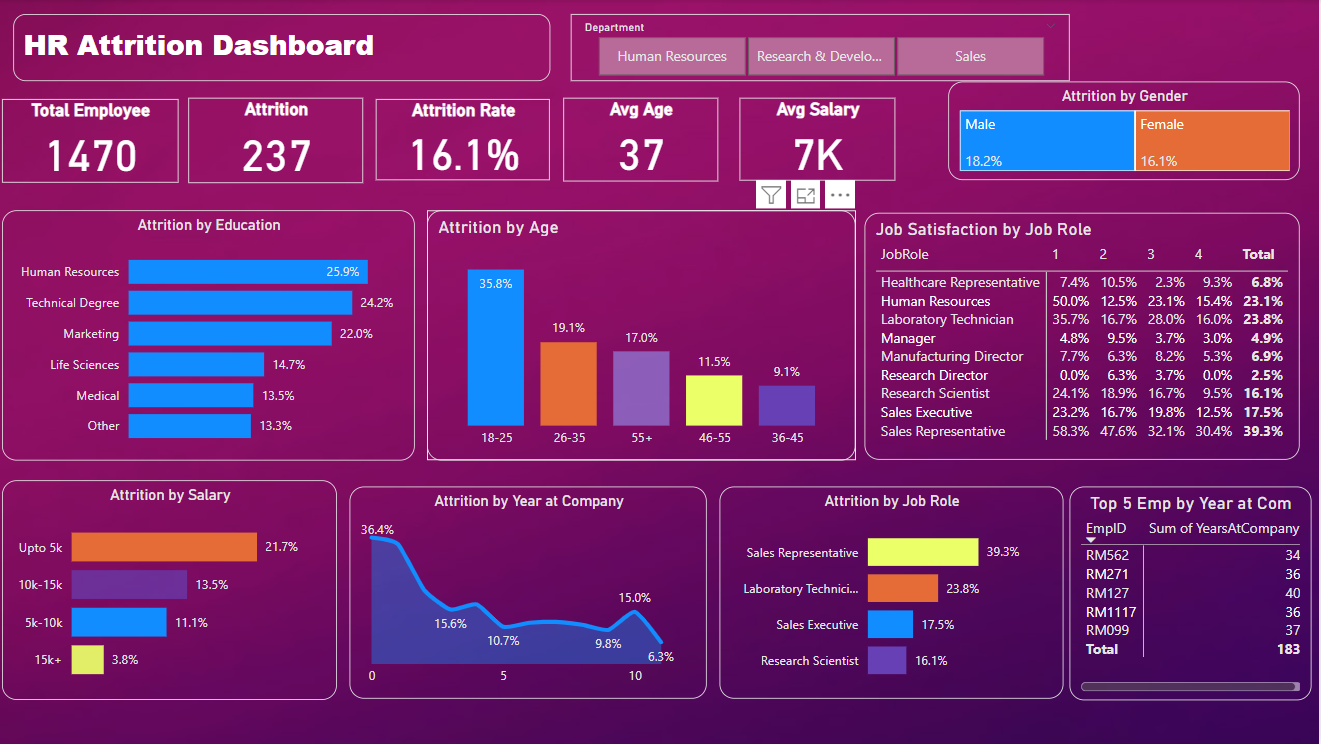

What the dashboard file says about the page in this screenshot:
{"tool":"powerbi","page":{"name":"Dashboard ","canvas":[1280,720],"ordinal":0},"visuals":[{"type":"card","title":"Total Employee","fields":{"Values":["HR_Analytics.Total Employee"]},"box":[9.7,96.5,170.1,80.8],"z":0},{"type":"card","title":"Attrition","fields":{"Values":["Sum(HR_Analytics.Attrition Count)"]},"box":[189.4,95.3,168.9,82],"z":1000},{"type":"card","title":"Attrition Rate","fields":{"Values":["HR_Analytics.AttritionRate"]},"box":[370,96.7,168.3,78.3],"z":2000},{"type":"card","title":"Avg Age","fields":{"Values":["HR_Analytics.Avg Age"]},"box":[551.3,95.3,149.6,80.8],"z":3000},{"type":"card","title":"Avg Salary","fields":{"Values":["HR_Analytics.Avg Salary"]},"box":[721.7,95,150,80],"z":4000},{"type":"barChart","title":"Attrition by Education","fields":{"Category":["HR_Analytics.EducationField"],"Y":["HR_Analytics.AttritionRate"]},"box":[9.7,203.9,398.1,241.3],"z":6000},{"type":"columnChart","title":"Attrition by Age","fields":{"Category":["HR_Analytics.AgeGroup"],"Y":["HR_Analytics.AttritionRate"]},"box":[420,203.3,413.3,241.7],"z":7000},{"type":"pivotTable","title":"Job Satisfaction by Job Role","fields":{"Rows":["HR_Analytics.JobRole"],"Columns":["HR_Analytics.JobSatisfaction"],"Values":["HR_Analytics.AttritionRate"]},"box":[841.7,206.7,420,238.3],"z":8000},{"type":"barChart","title":"Attrition by Salary","fields":{"Category":["HR_Analytics.SalarySlab"],"Y":["HR_Analytics.AttritionRate"]},"box":[10,465,323.3,211.7],"z":9000},{"type":"barChart","title":"Attrition by Job Role","fields":{"Category":["HR_Analytics.JobRole"],"Y":["HR_Analytics.AttritionRate"]},"box":[701.7,470,331.7,205],"z":10000},{"type":"areaChart","title":"Attrition by Year at Company","fields":{"Category":["HR_Analytics.YearsAtCompany"],"Y":["HR_Analytics.AttritionRate"]},"box":[345,470,345,205],"z":11000},{"type":"treemap","title":"Attrition by Gender","fields":{"Group":["HR_Analytics.Gender"],"Values":["HR_Analytics.AttritionRate"]},"box":[922.9,79.6,339,95.3],"z":12000},{"type":"slicer","fields":{"Values":["HR_Analytics.Department"]},"box":[558.3,15,481.7,65],"z":13000},{"type":"textbox","box":[20,15,518.3,65],"z":14000},{"type":"pivotTable","title":"Top 5 Emp by Year at Com","fields":{"Rows":["HR_Analytics.EmpID"],"Values":["Sum(HR_Analytics.YearsAtCompany)"]},"box":[1040,470,233.3,206.7],"z":15000}]}

Visuals, with their boxes in screenshot pixels (x1, y1, x2, y2), scaled from the page's 1280x720 canvas onto the 1321x744 screenshot:
"Total Employee" card: bbox=(10, 100, 186, 183)
"Attrition" card: bbox=(195, 98, 370, 183)
"Attrition Rate" card: bbox=(382, 100, 556, 181)
"Avg Age" card: bbox=(569, 98, 723, 182)
"Avg Salary" card: bbox=(745, 98, 900, 181)
"Attrition by Education" barChart: bbox=(10, 211, 421, 460)
"Attrition by Age" columnChart: bbox=(433, 210, 860, 460)
"Job Satisfaction by Job Role" pivotTable: bbox=(869, 214, 1302, 460)
"Attrition by Salary" barChart: bbox=(10, 481, 344, 699)
"Attrition by Job Role" barChart: bbox=(724, 486, 1067, 698)
"Attrition by Year at Company" areaChart: bbox=(356, 486, 712, 698)
"Attrition by Gender" treemap: bbox=(952, 82, 1302, 181)
slicer - HR_Analytics.Department: bbox=(576, 16, 1073, 83)
textbox: bbox=(21, 16, 556, 83)
"Top 5 Emp by Year at Com" pivotTable: bbox=(1073, 486, 1314, 699)
